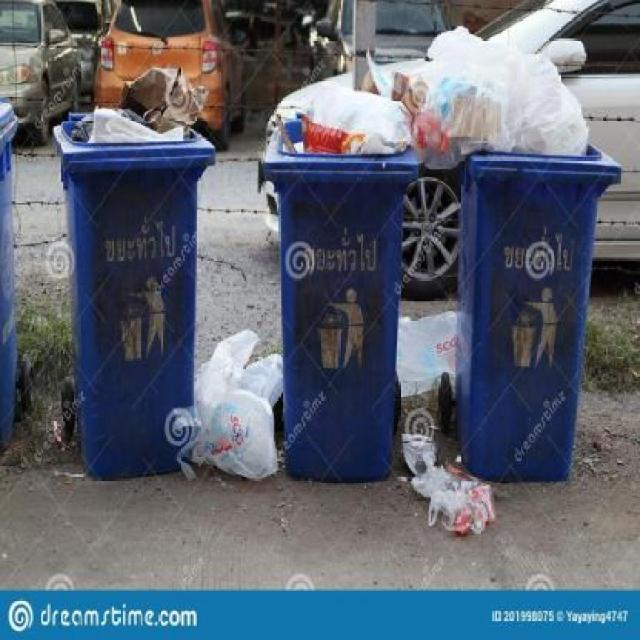garbage: (269, 60, 602, 186), (185, 316, 292, 482), (394, 428, 503, 544), (68, 76, 221, 156), (393, 303, 466, 390)
